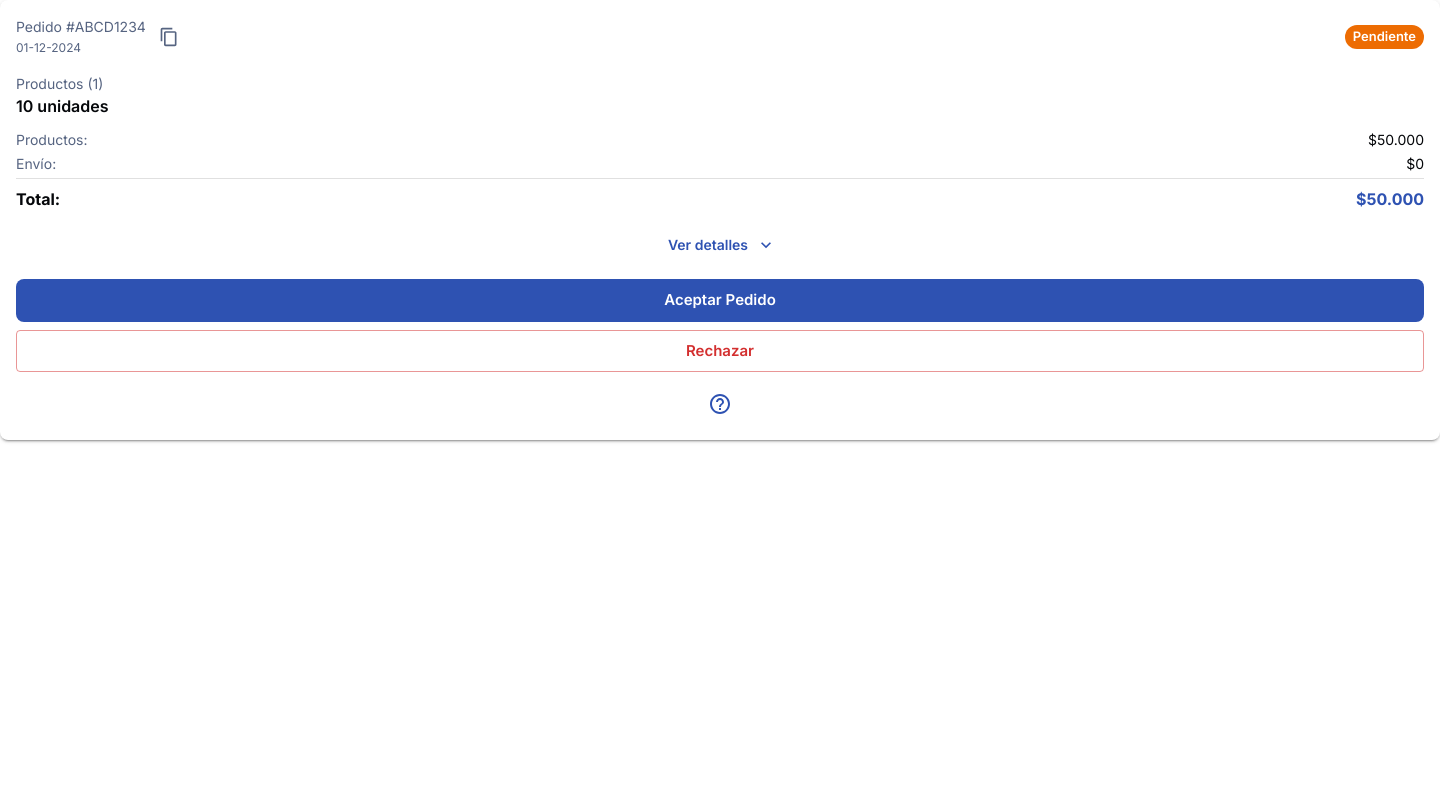
it: MobileOrderCard Component › Edge Cases › debería manejar billing_info como string JSON
This screenshot has width=1440, height=787.
Click the button "Ver detalles": (720, 245) [16,227,1424,263]
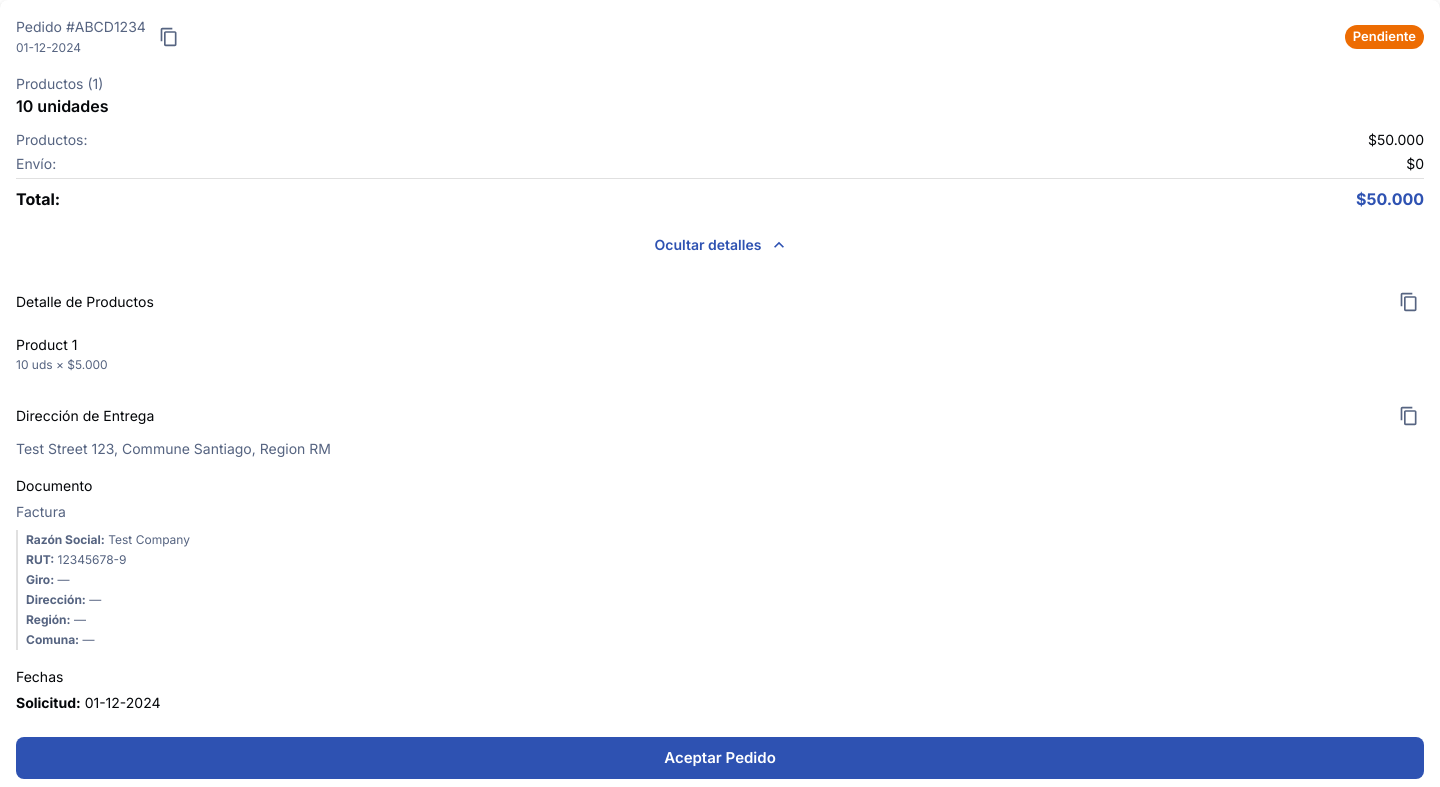
Check: the heading "Documento" is shown, box [16,477,92,494]
Check: the text "Test Company" is shown, box [108,532,190,547]
Check: the text "RUT: 12345678-9" is shown, box [26,552,126,567]
